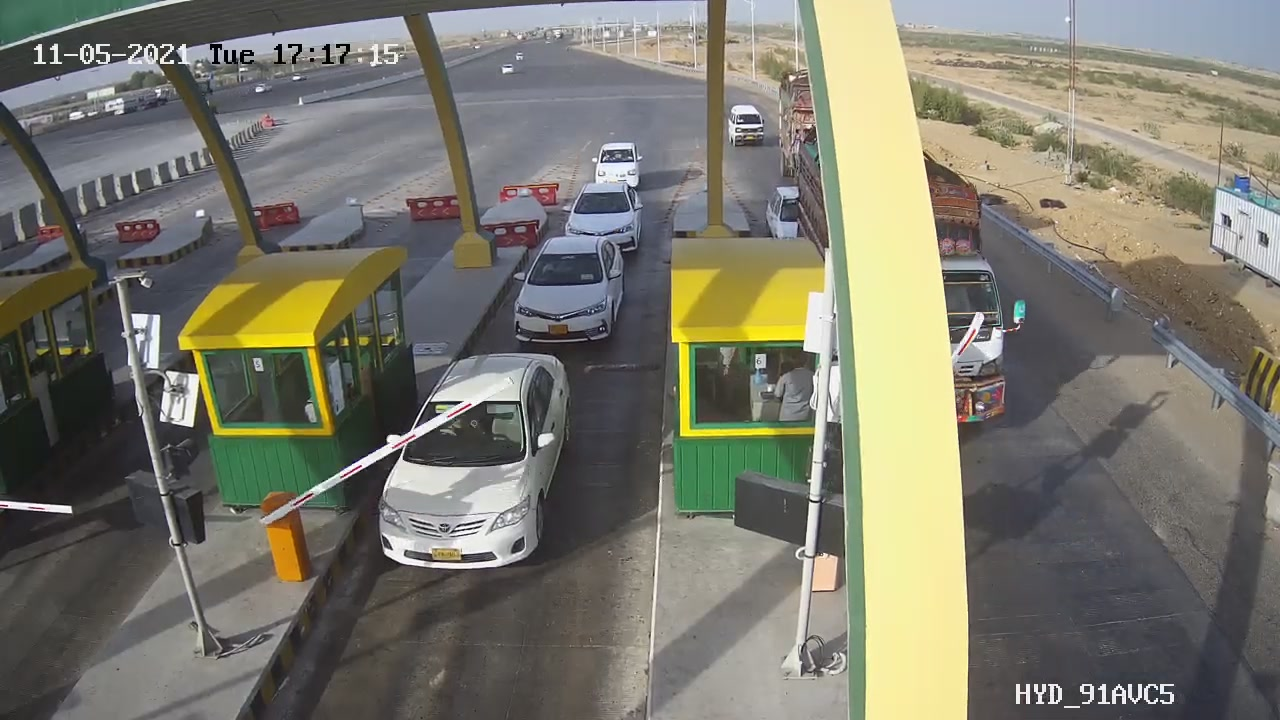F1: (366, 342, 589, 591), (500, 226, 642, 356), (548, 174, 659, 269)
